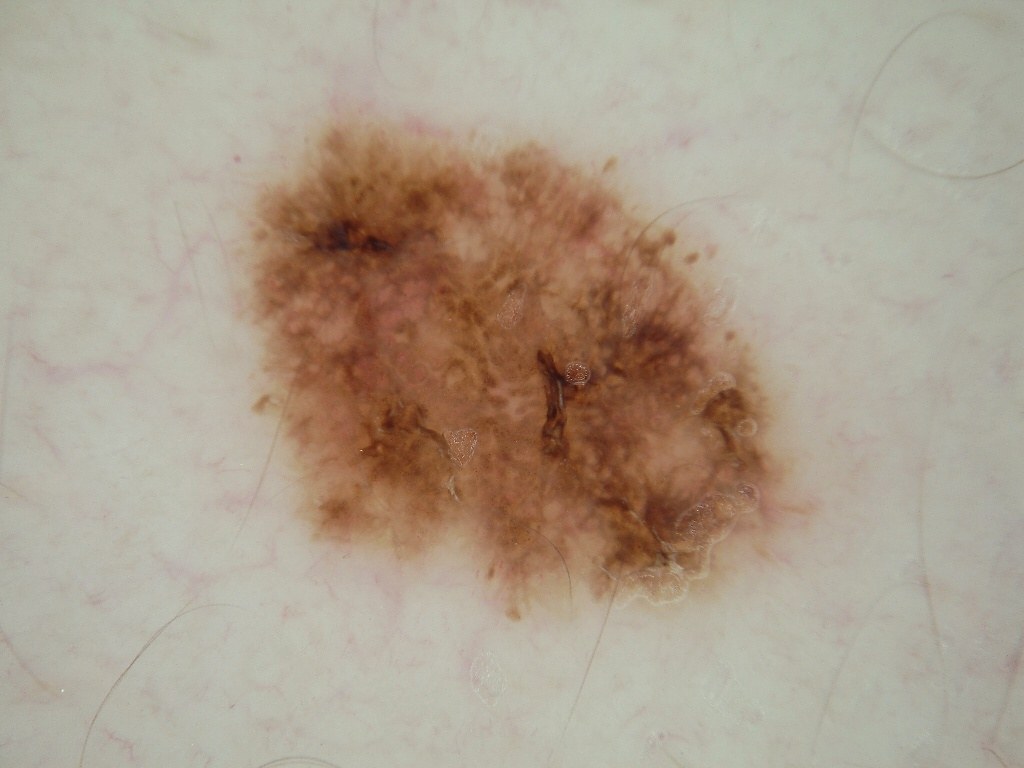Detected Lesion: (234, 107, 818, 626)
